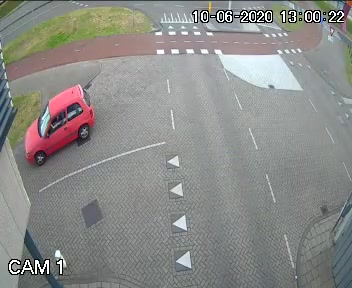car: (30, 83, 99, 166)
